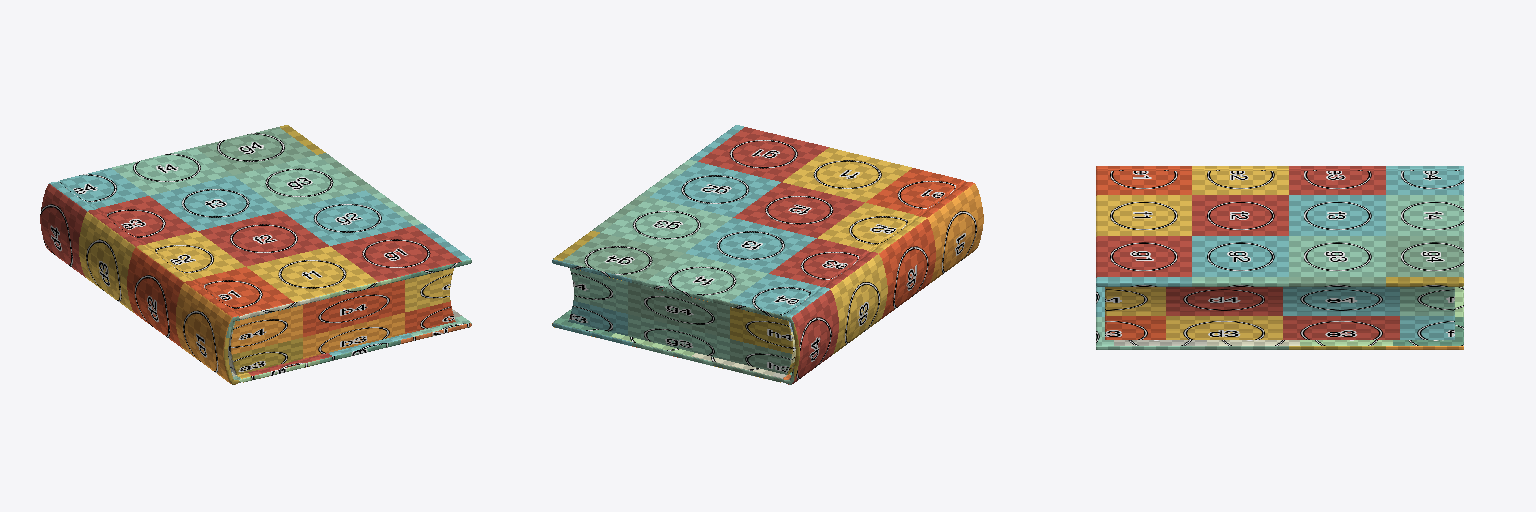
3 views of the same model, side by side, from view 1: azimuth 30°, elevation 25°; view 2: azimuth 150°, elevation 25°; view 3: azimuth 270°, elevation 25° (orthographic).
Parts seen in each view (by area): view 1: Bible, pages; view 2: Bible, pages; view 3: Bible, pages.
Part boxes in pixels (left/top/right/bottom): Bible: left=40, top=125, right=471, bottom=384; pages: left=228, top=268, right=455, bottom=374; Bible: left=552, top=125, right=983, bottom=384; pages: left=568, top=268, right=795, bottom=374; Bible: left=1096, top=166, right=1463, bottom=349; pages: left=1105, top=287, right=1454, bottom=339.
Bounding box in the file's own units: 0.1556 × 0.0411 × 0.2.
Materials: 2 (1 with a texture image).